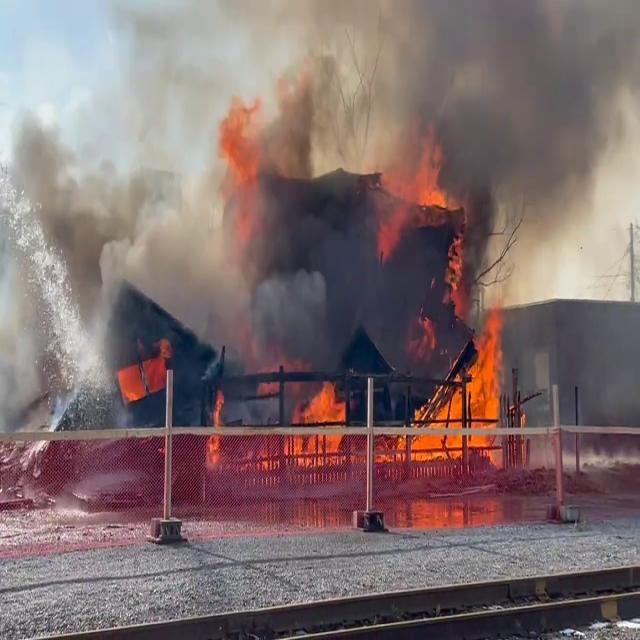Fire: (412, 298, 527, 460), (270, 379, 356, 470), (376, 142, 448, 237), (216, 78, 272, 189), (202, 385, 229, 471)
Smoke: (21, 0, 640, 356)
